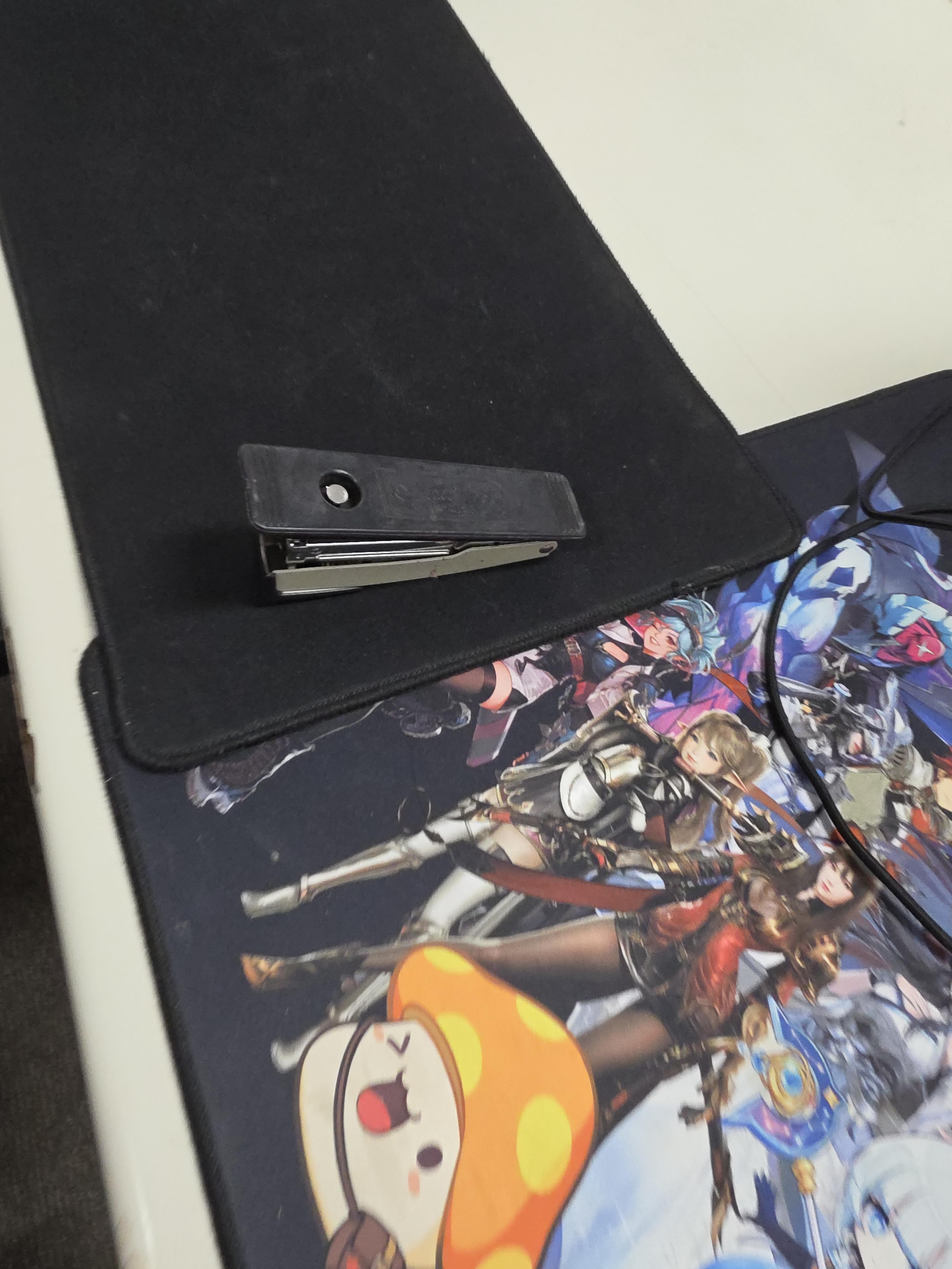stapler: (239, 443, 586, 597)
